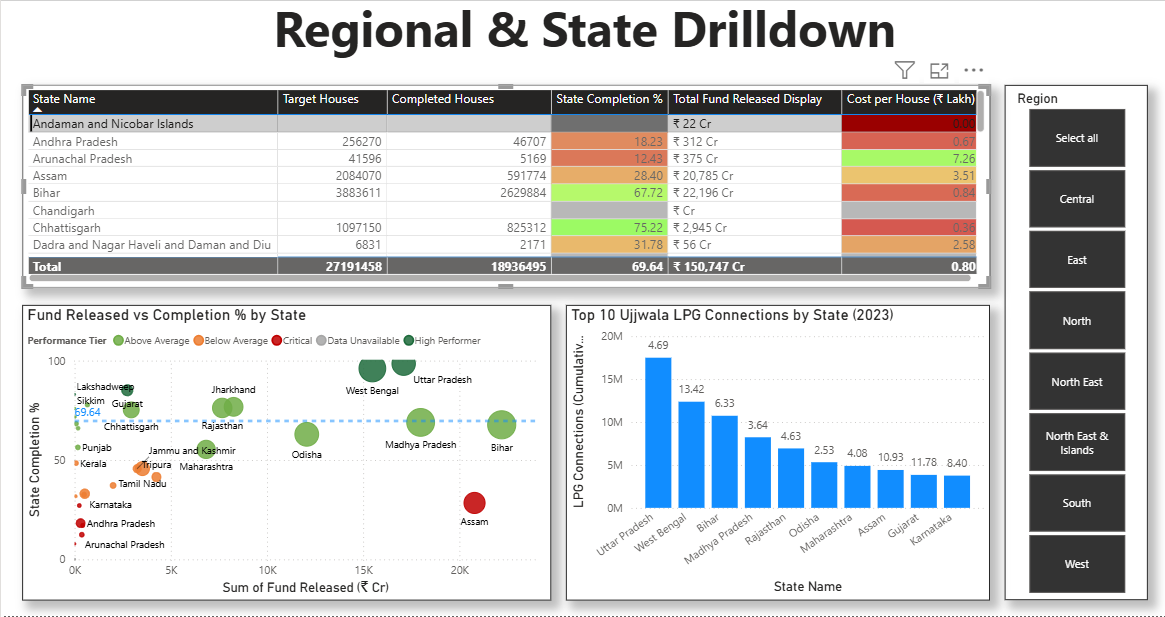

The page's visual inventory and layout, read from the dashboard file:
{"tool":"powerbi","page":{"name":"Regional & State Drilldown","canvas":[1280,720],"ordinal":1},"visuals":[{"type":"textbox","box":[23.3,33.1,1233.3,104.1],"z":0},{"type":"tableEx","fields":{"Values":["state_level_summary.State Name","Sum(state_level_summary.target_houses)","Sum(state_level_summary.completed_houses_cumulative)","state_level_summary.State Completion %","state_level_summary.Total Fund Released Display","state_level_summary.Cost per House (₹ Lakh)"]},"box":[23.3,137,1061.3,222.6],"z":1000},{"type":"slicer","fields":{"Values":["state_level_summary.Region"]},"box":[1100.2,137,156.5,564.7],"z":2000},{"type":"scatterChart","title":"Fund Released vs Completion % by State","fields":{"Size":["Sum(state_level_summary.target_houses)"],"Series":["state_level_summary.Performance Tier"],"X":["Sum(state_level_summary.Fund Released (₹ Cr))"],"Y":["state_level_summary.State Completion %"],"Category":["state_level_summary.State Name"]},"box":[23.3,378.1,580.2,323.6],"z":3000},{"type":"columnChart","title":"Top 10 Ujjwala LPG Connections by State (2023)","fields":{"Category":["state_level_summary.State Name"],"Y":["Sum(state_level_summary.pmuy_connections_2023)"]},"box":[620.1,378.1,464.6,323.6],"z":4000}]}

Visuals, with their boxes on the page's 1280x720 design canvas (x1, y1, x2, y2). These are canvas units, not pixel positions in the 1165x617 screenshot, which may show the page scaled, cropped or inside an application window:
textbox: 23 33 1257 137
tableEx - state_level_summary.State Name x Sum(state_level_summary.target_houses): 23 137 1085 360
slicer - state_level_summary.Region: 1100 137 1257 702
"Fund Released vs Completion % by State" scatterChart: 23 378 604 702
"Top 10 Ujjwala LPG Connections by State (2023)" columnChart: 620 378 1085 702
